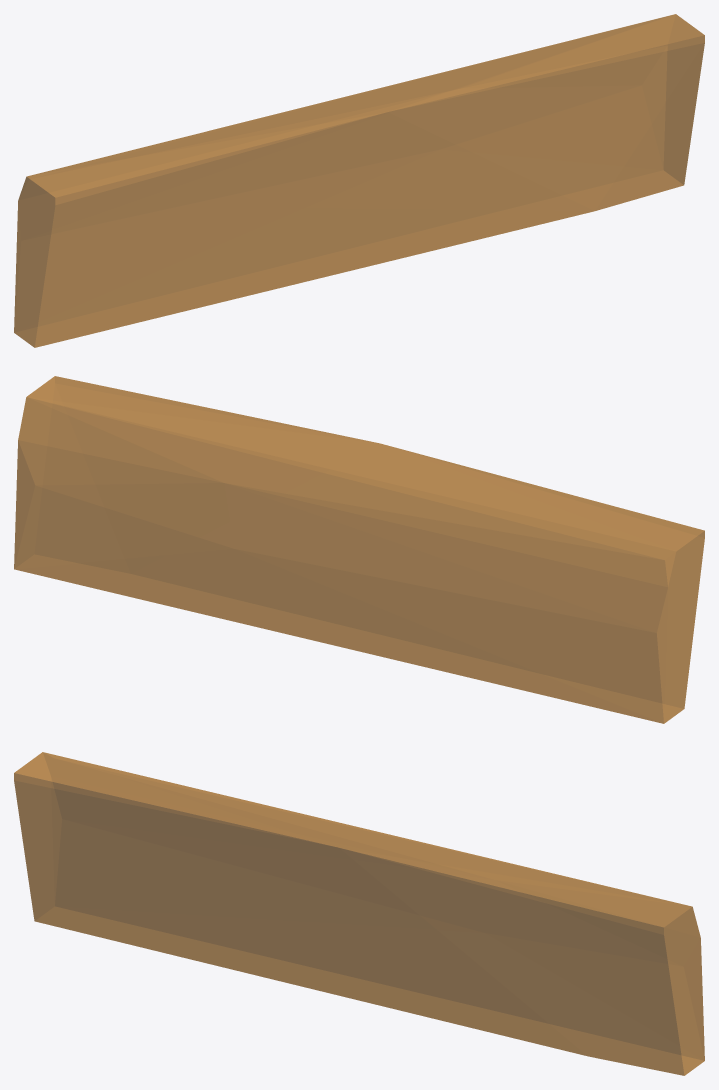
3 views of the same model, one above another, from view 1: azimuth 30°, elevation 25°; view 2: azimuth 150°, elevation 25°; view 3: azimuth 330°, elevation 25° (orthographic).
Parts seen in each view (by area): view 1: Shape_IndexedFaceSet.011_Shape_IndexedFaceSet.2972; view 2: Shape_IndexedFaceSet.011_Shape_IndexedFaceSet.2972; view 3: Shape_IndexedFaceSet.011_Shape_IndexedFaceSet.2972.
Boxes of the visible parts, x1,y1,x2,y2 form: Shape_IndexedFaceSet.011_Shape_IndexedFaceSet.2972: [14, 14, 704, 347]; Shape_IndexedFaceSet.011_Shape_IndexedFaceSet.2972: [14, 376, 704, 723]; Shape_IndexedFaceSet.011_Shape_IndexedFaceSet.2972: [14, 752, 704, 1075].
Size of the model in its own units: 0.2127 by 0.0534 by 0.0267.
